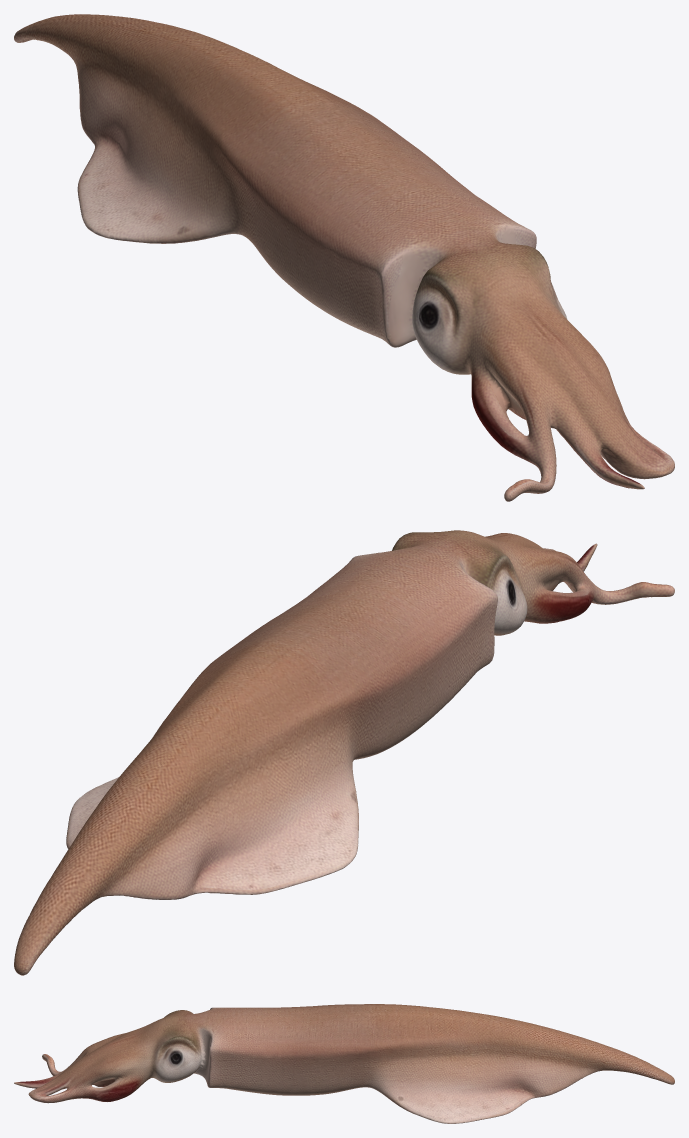
The model's file is yariika.glb.
The picture shows the model from 3 angles, top to bottom: view 1: azimuth 30°, elevation 25°; view 2: azimuth 150°, elevation 25°; view 3: azimuth 270°, elevation 25°; orthographic projection. The views are drawn at different scales.
Bounding box in the file's own units: 0.5063 × 0.2679 × 1.9.
1 material, 1 textured.
